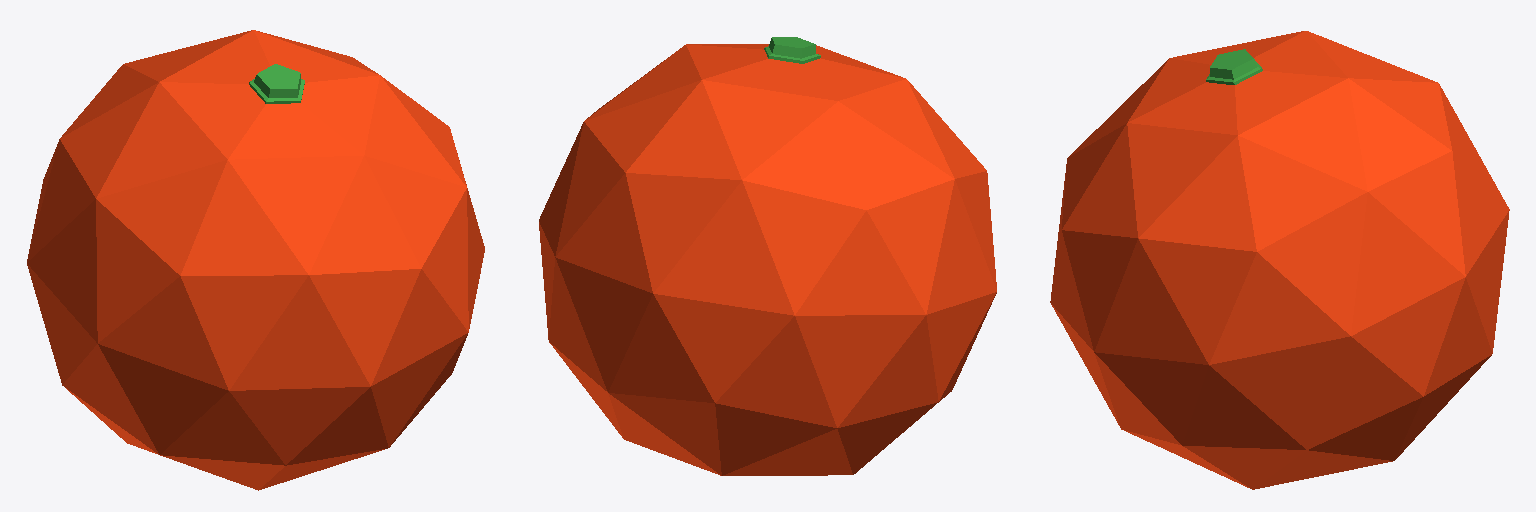
Rendered from Orange_01.obj.
3 renders of one model, left to right at view 1: azimuth 30°, elevation 25°; view 2: azimuth 150°, elevation 25°; view 3: azimuth 270°, elevation 25°, orthographic.
Parts seen in each view (by area): view 1: Icosphere; view 2: Icosphere; view 3: Icosphere.
Boxes of the visible parts, x1=… form: Icosphere: x1=27, y1=30, x2=484, y2=490; Icosphere: x1=539, y1=37, x2=996, y2=475; Icosphere: x1=1050, y1=31, x2=1509, y2=489.
Size of the model in its own units: 10.09 by 9.97 by 10.36.